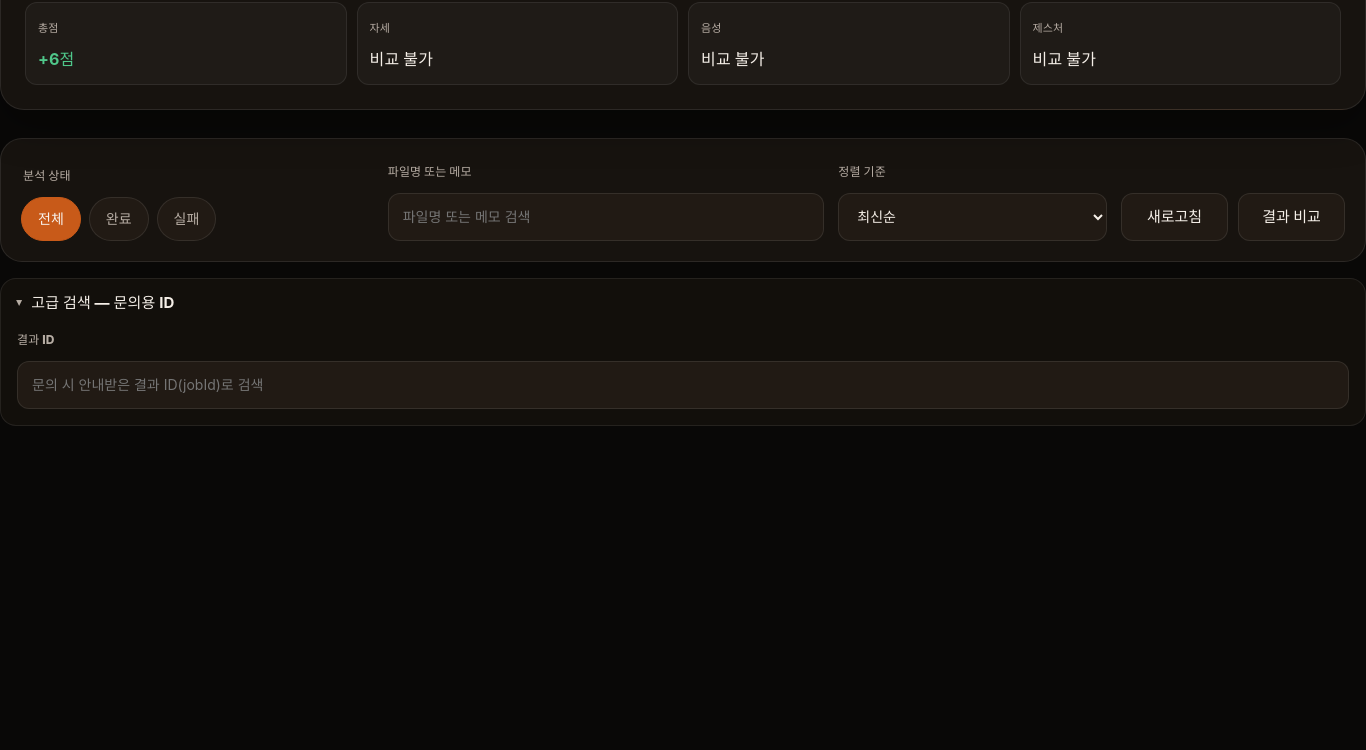
ResultListPage › searches by jobId only through the advanced search
This screenshot has width=1366, height=750.
(page scrolled)
Type "job-list-pipeline-openai" into the search field with placeholder "문의 시 안내받은 결과 ID(jobId)로 검색".
click(683, 385); type("job-list-pipeline-openai")  # box [17,361,1349,409]
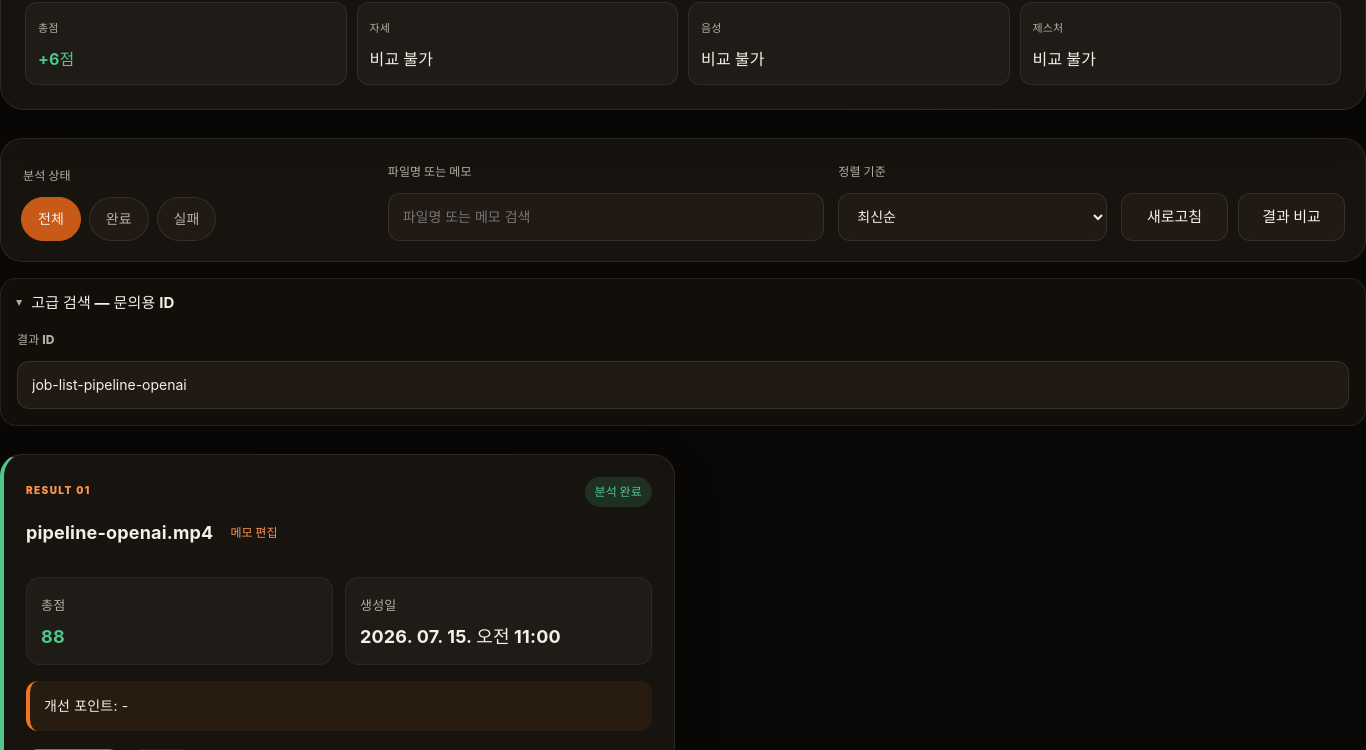
Check: the heading "pipeline-openai.mp4" is shown, box [26,520,213,546]
